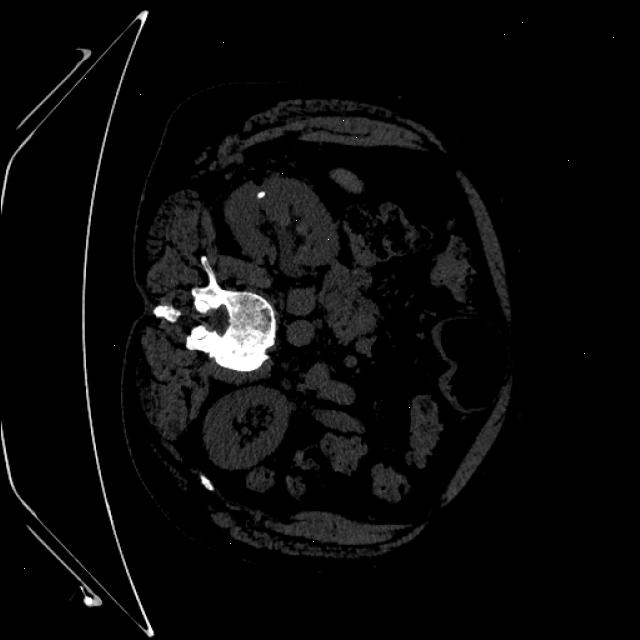kidneystone: (256, 190, 265, 199)
